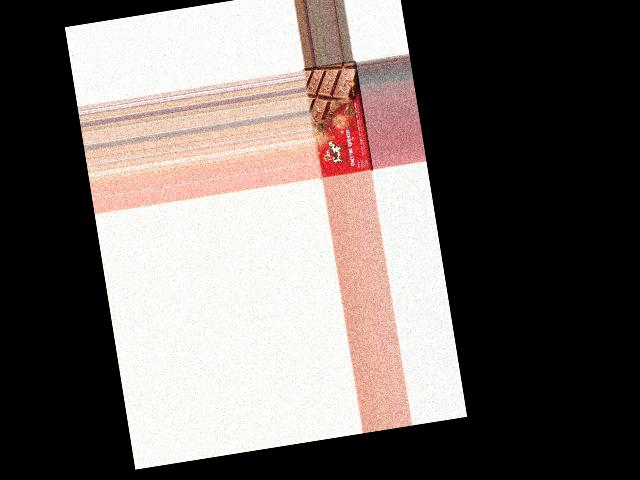chocolate: (303, 60, 373, 180)
